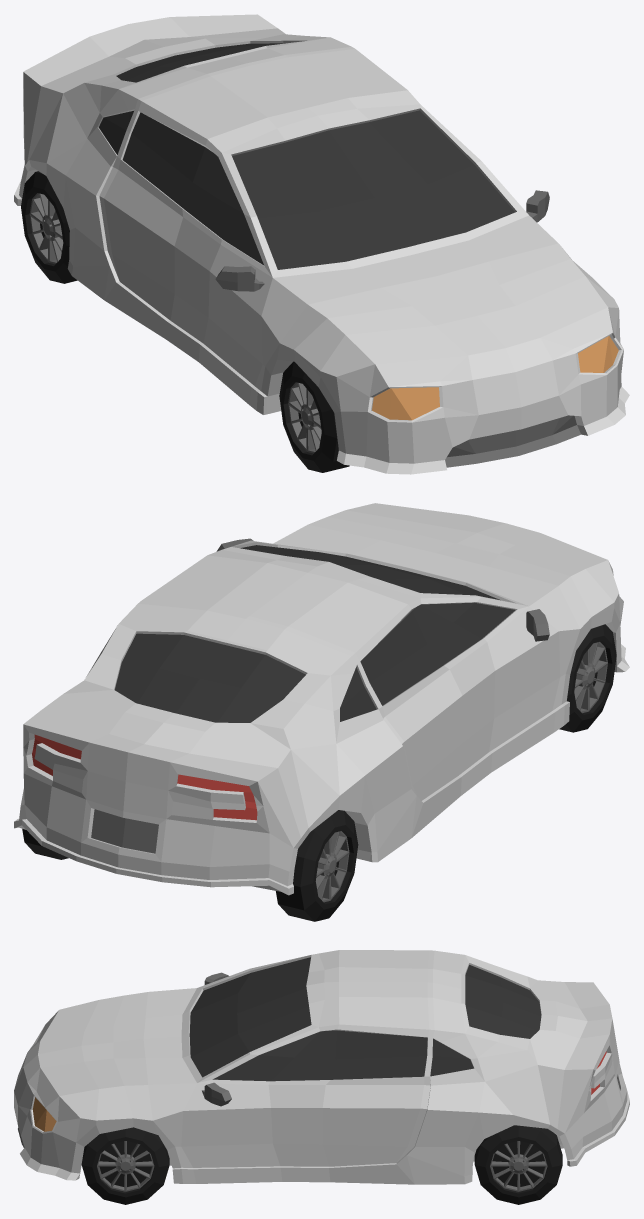
Rendered from SportsCar2_Car.fbx.
3 renders of one model, top to bottom at view 1: azimuth 30°, elevation 25°; view 2: azimuth 150°, elevation 25°; view 3: azimuth 270°, elevation 25°, orthographic. The views are drawn at different scales.
Visible parts, largest first — view 1: SportsCar2, SportsCar2_FrontRightWheel, SportsCar2_BackRightWheel; view 2: SportsCar2, SportsCar2_BackRightWheel, SportsCar2_FrontRightWheel; view 3: SportsCar2, SportsCar2_BackLeftWheel, SportsCar2_FrontLeftWheel.
Part boxes in pixels (<box>): SportsCar2: <box>14,14,629,474</box>; SportsCar2_FrontRightWheel: <box>279,361,349,472</box>; SportsCar2_BackRightWheel: <box>21,171,77,283</box>; SportsCar2: <box>14,503,629,895</box>; SportsCar2_BackRightWheel: <box>276,810,358,921</box>; SportsCar2_FrontRightWheel: <box>559,624,616,732</box>; SportsCar2: <box>14,950,629,1184</box>; SportsCar2_BackLeftWheel: <box>474,1125,562,1204</box>; SportsCar2_FrontLeftWheel: <box>81,1127,169,1204</box>.
Bounding box in the file's own units: 187 × 120 × 393.
